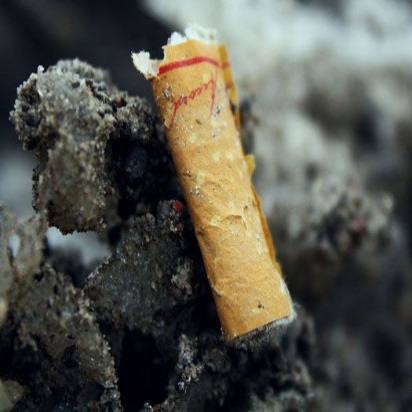cigarette: (139, 22, 303, 354)
